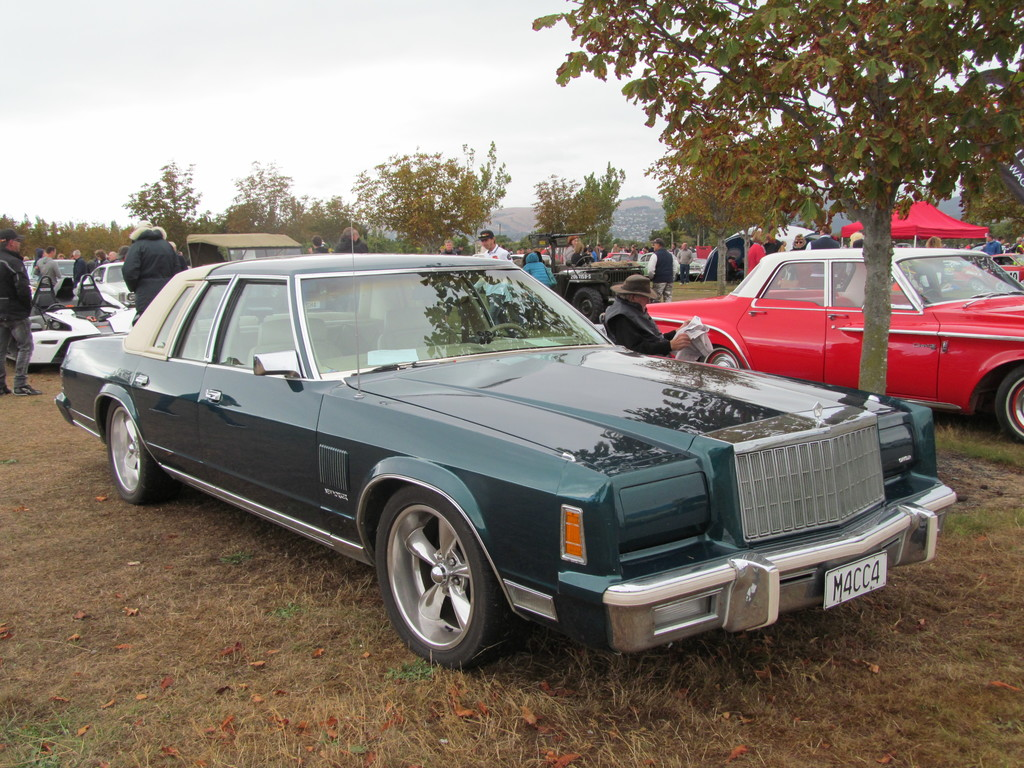mobil: (46, 243, 972, 683)
